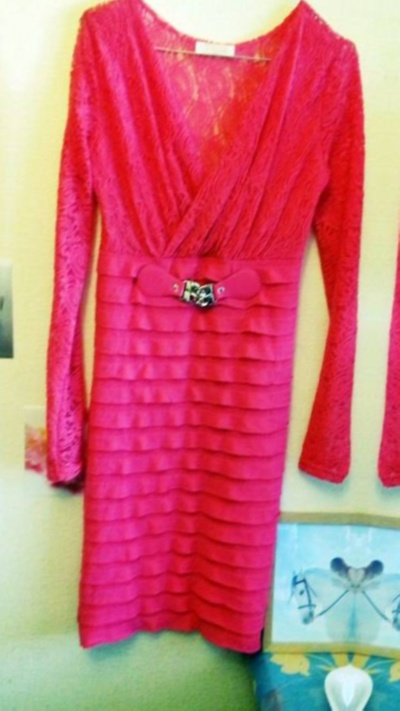Dress: (0, 0, 383, 704), (361, 16, 400, 711), (0, 0, 8, 677)
